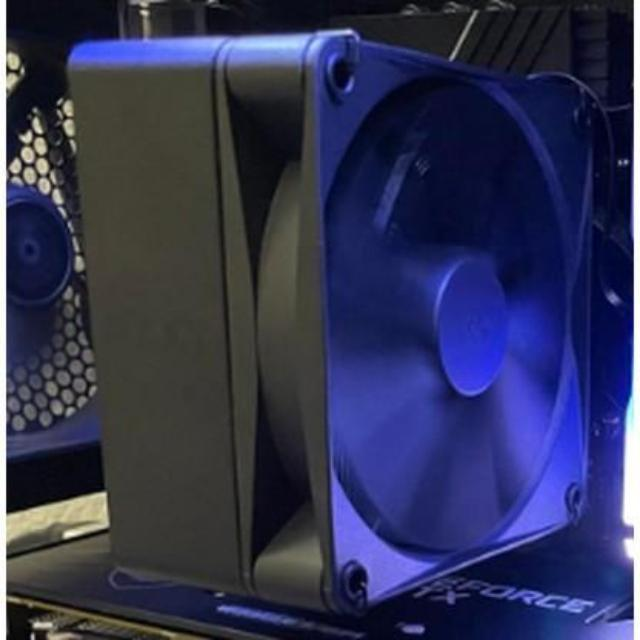CPU_Fan: (66, 19, 591, 612)
